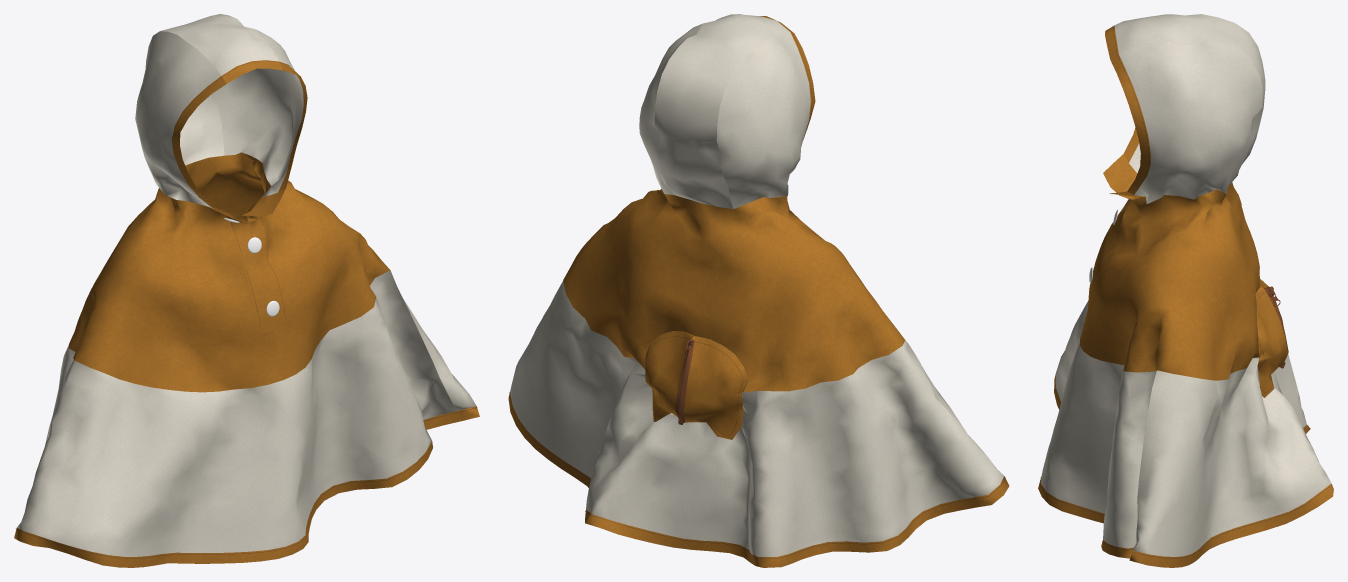
Rendered from Cafe.glb.
3 views of the same model, side by side, from view 1: azimuth 30°, elevation 25°; view 2: azimuth 150°, elevation 25°; view 3: azimuth 270°, elevation 25° (orthographic).
Visible parts, largest first — view 1: Cloth; view 2: Cloth; view 3: Cloth.
Boxes of the visible parts, <box> form: Cloth: <box>14,14,479,567</box>; Cloth: <box>508,14,1009,567</box>; Cloth: <box>1038,14,1333,567</box>.
Size of the model in its own units: 0.5763 by 0.5618 by 0.3158.
13 materials, 12 textured.
